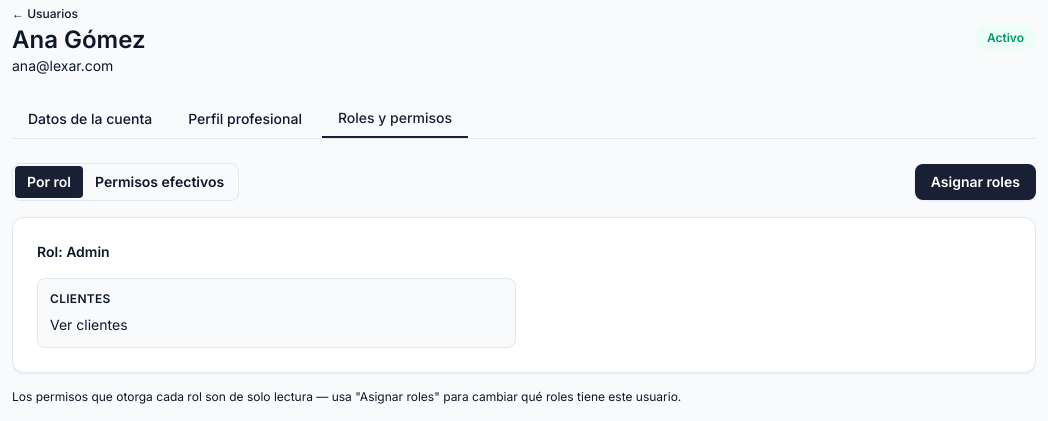
Scenario: UserDetailComponent › permisos efectivos (F39 ROL-07) › con users.view + roles.view ofrece la vista "Permisos efectivos" y la monta al elegirla
Click the button "Permisos efectivos".
click(160, 182)  # box top-left (83, 166), bottom-right (236, 198)
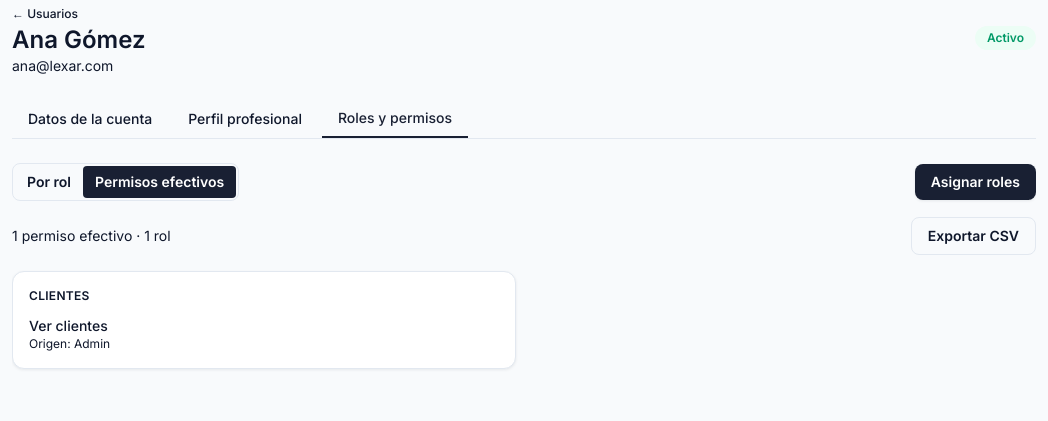
Expected: the text "Ver clientes" is shown, top-left (29, 317), bottom-right (108, 334)
Result: the text "Origen: Admin" is shown at top-left (29, 336), bottom-right (110, 351)
